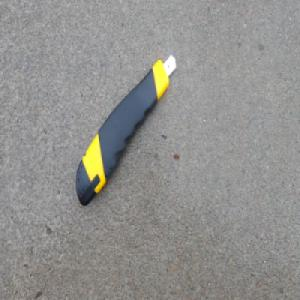Cutter: (74, 51, 177, 207)
